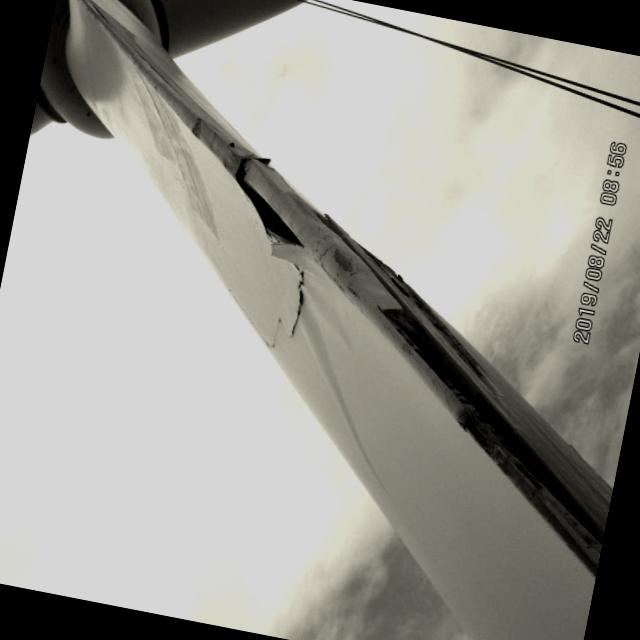crack: (177, 132, 472, 368)
